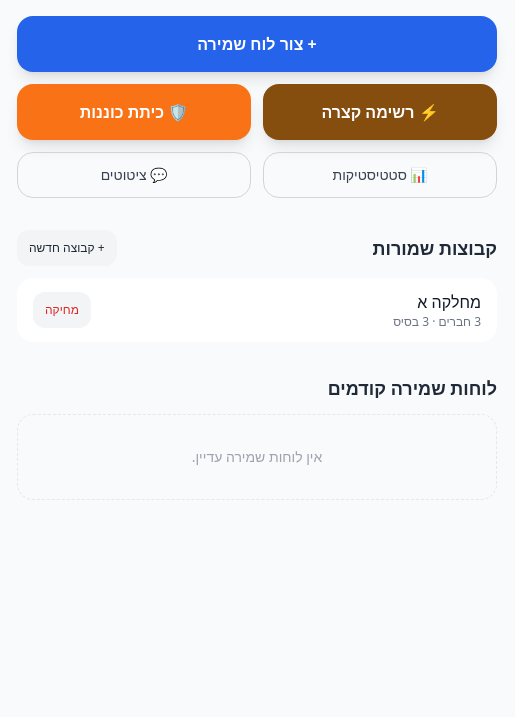
Test: HomeScreen — clickable group cards › clicking group card body navigates to group edit screen
The width and height of the screenshot is (515, 717).
// Click on group name text (inside the card)
Click the text "מחלקה א": (449, 302) x1=417 y1=291 x2=481 y2=313
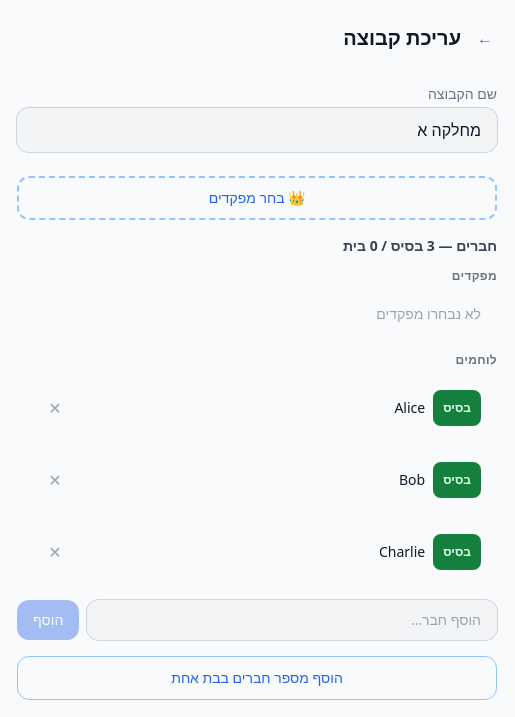
Expected: the button "Alice" is shown, x1=85 y1=390 x2=425 y2=426
